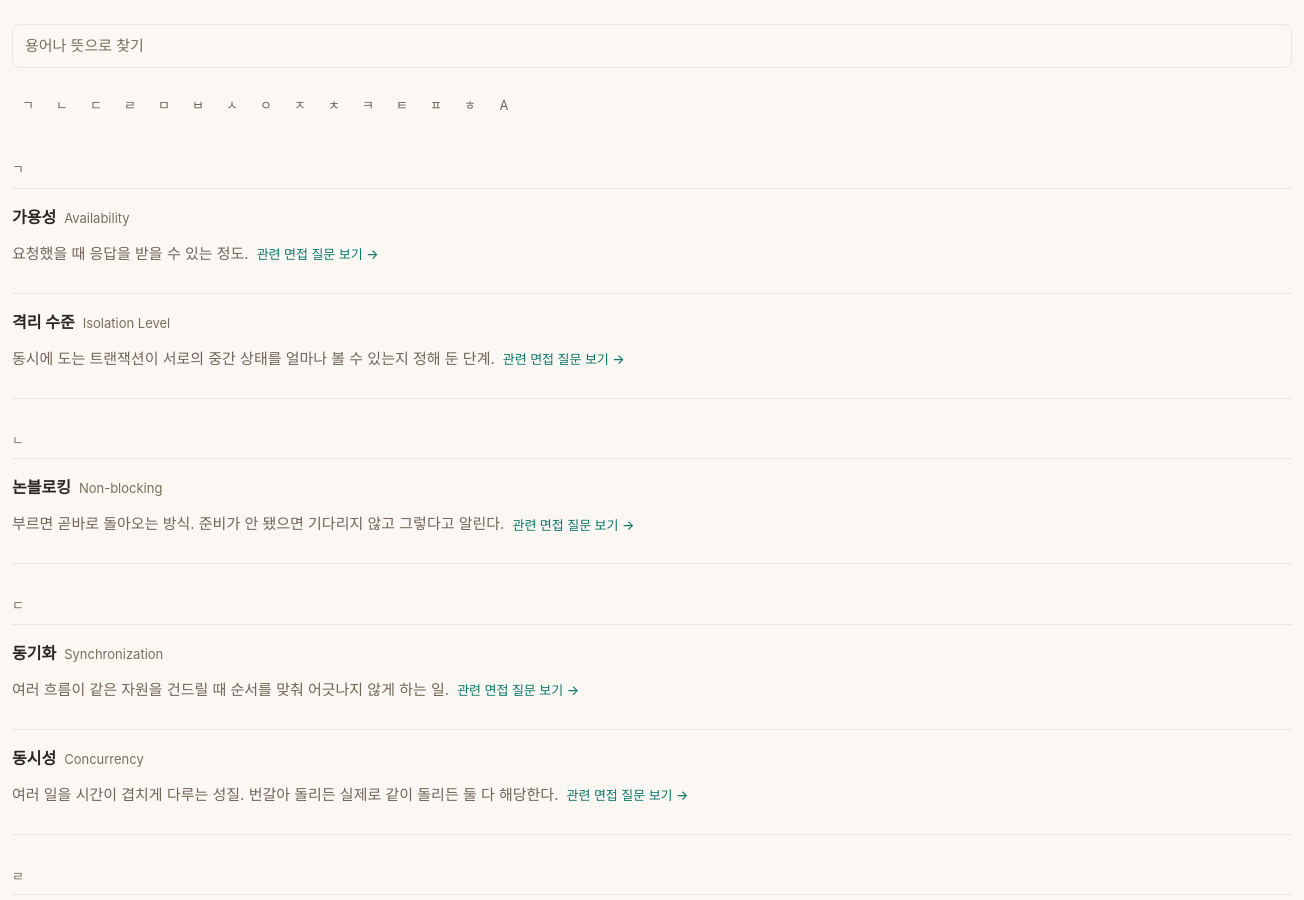
용어 사전 검색 › 찾은 개수를 말한다
Type "스레드" into the search field named "용어 검색".
click(652, 46); type("스레드")  # box [12, 24, 1292, 68]
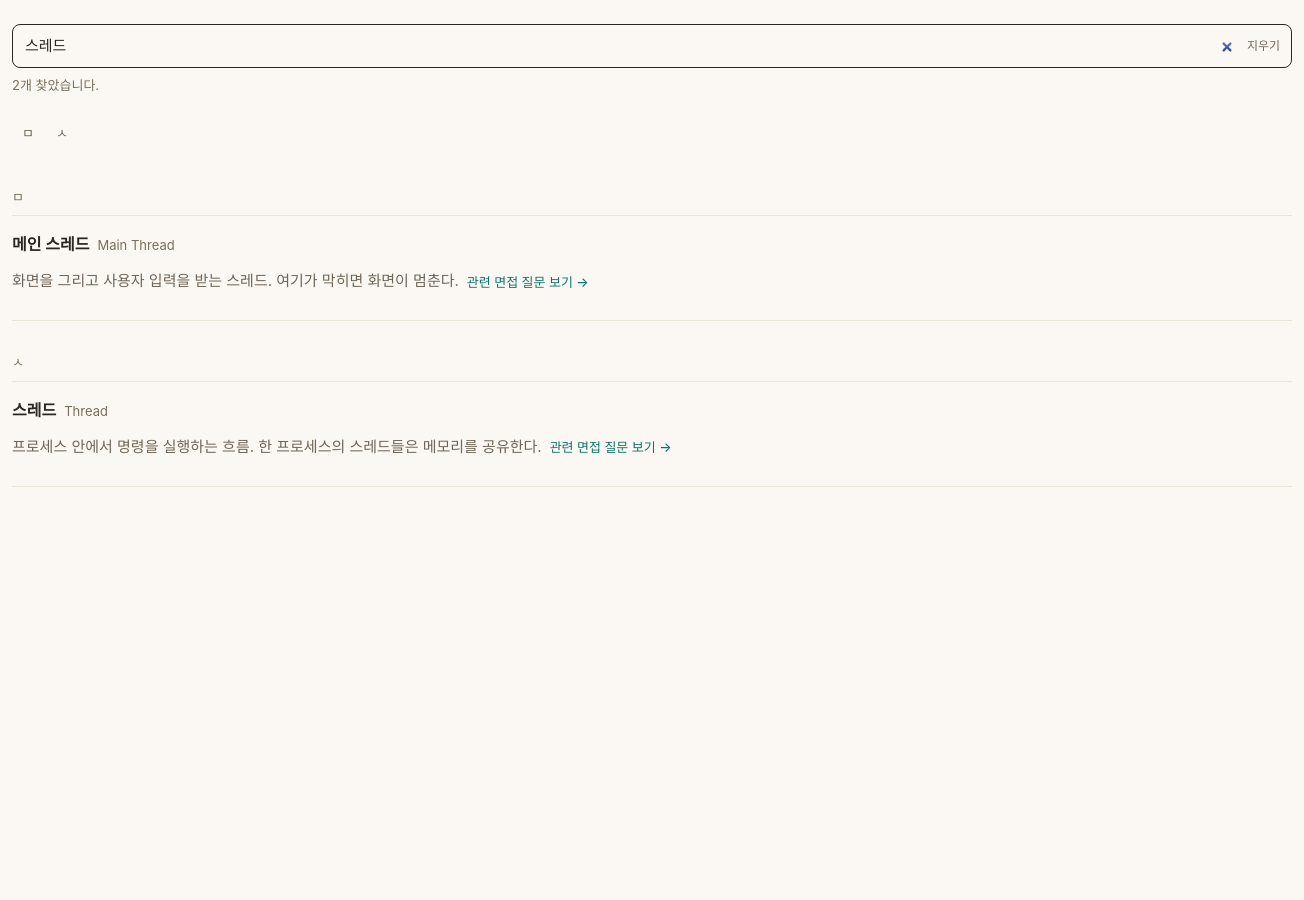
Expected: the message shows "개 찾았습니다", [12, 77, 99, 93]
